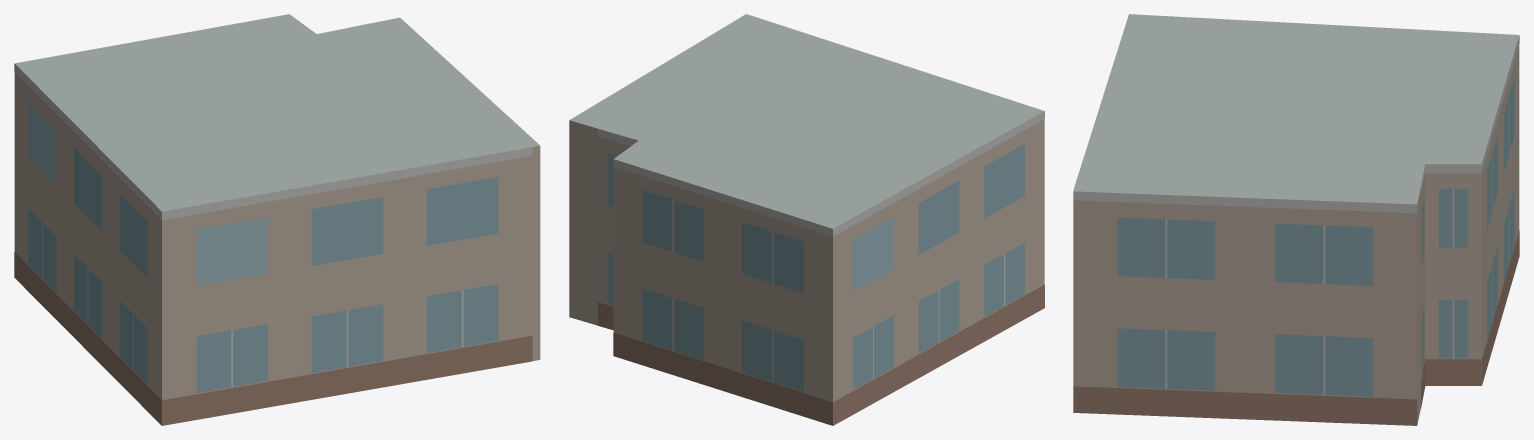
File: survey-upis-32685455.glb
3 renders of one model, left to right at view 1: azimuth 30°, elevation 25°; view 2: azimuth 150°, elevation 25°; view 3: azimuth 270°, elevation 25°, orthographic. The views are drawn at different scales.
Parts seen in each view (by area): view 1: survey-upis-32685455.tmp; view 2: survey-upis-32685455.tmp; view 3: survey-upis-32685455.tmp.
Boxes of the visible parts, x1,y1,x2,y2 form: survey-upis-32685455.tmp: (14, 14, 540, 425); survey-upis-32685455.tmp: (569, 14, 1044, 425); survey-upis-32685455.tmp: (1073, 14, 1519, 425).
Size of the model in its own units: 11.26 by 6.1 by 11.14.
